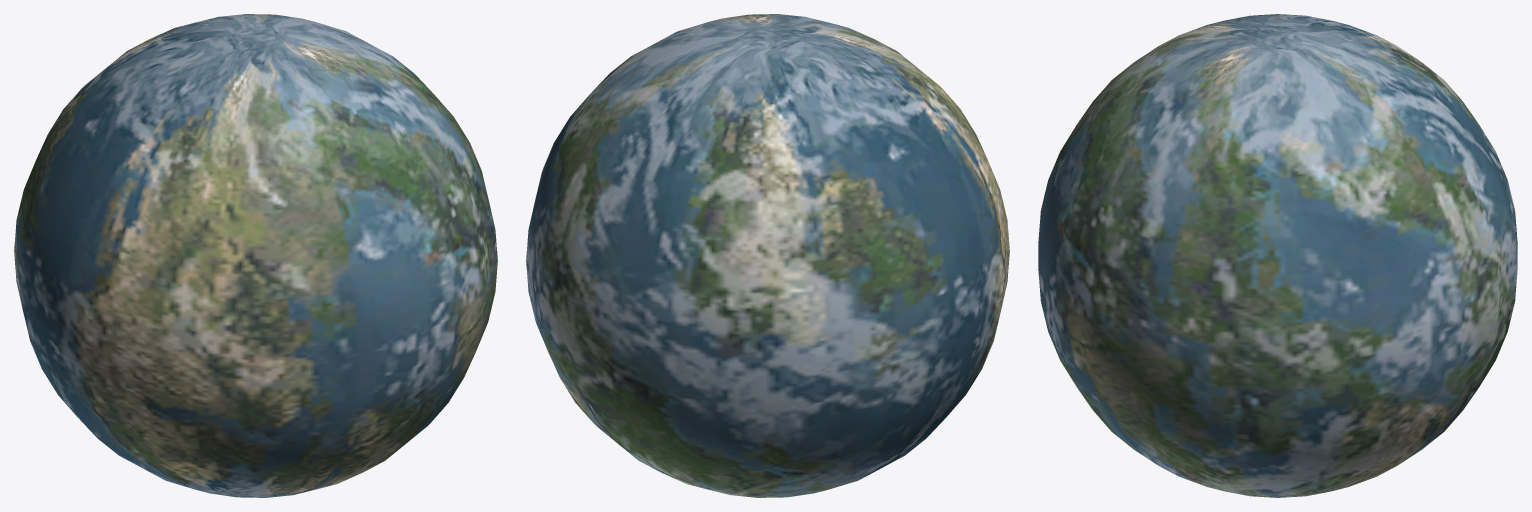
File: ui_planet_sel_nboo.fbx
3 renders of one model, left to right at view 1: azimuth 30°, elevation 25°; view 2: azimuth 150°, elevation 25°; view 3: azimuth 270°, elevation 25°, orthographic.
Parts seen in each view (by area): view 1: mesh_node; view 2: mesh_node; view 3: mesh_node.
Part boxes in pixels (box(x1,y1,x2,y2)): mesh_node: box(14, 14, 497, 497); mesh_node: box(526, 14, 1009, 497); mesh_node: box(1038, 14, 1517, 497).
Bounding box in the file's own units: 2 × 2 × 1.98.
